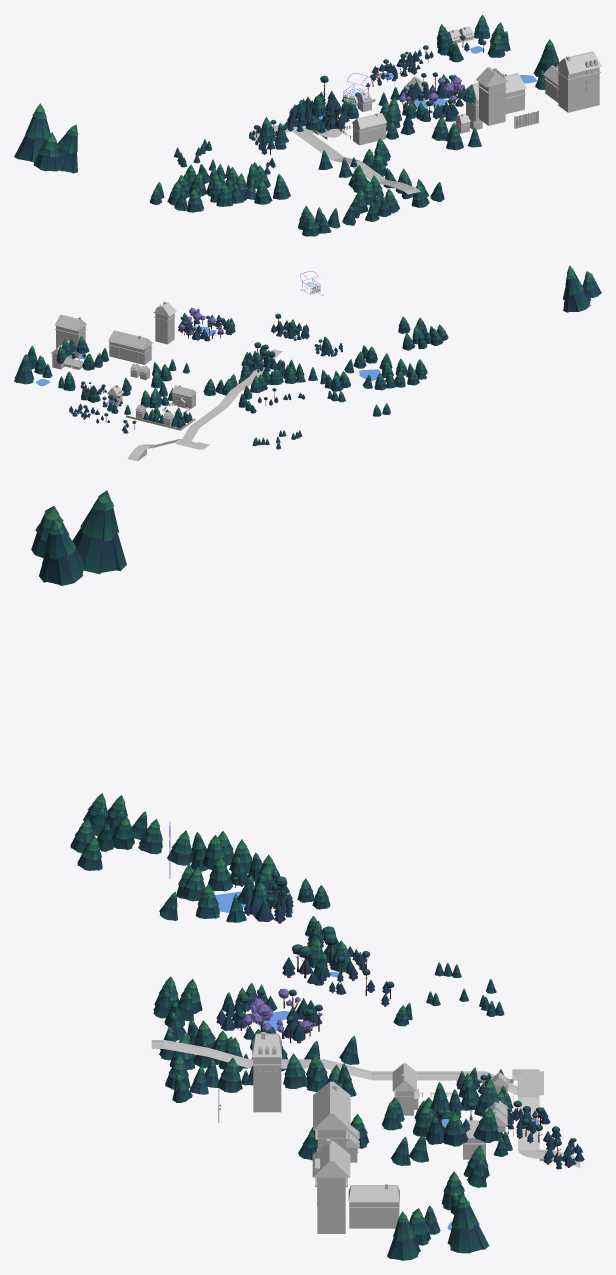
Rendered from EXT_FK_FancyTown.fbx.
3 renders of one model, top to bottom at view 1: azimuth 30°, elevation 25°; view 2: azimuth 150°, elevation 25°; view 3: azimuth 270°, elevation 25°, orthographic. The views are drawn at different scales.
Parts seen in each view (by area): view 1: Trees.059, Trees.181, Cube.355, Cube.353, Street_Middle.005, Trees.062, Cube.354, Cube.5335, Trees.060, Trees.064, Trees.166, Trees.175 (+2 smaller); view 2: Trees.059, Trees.181, Street_Middle.005, Cube.354, Cube.355, Trees.062, Cube.353, Cube.5335, Trees.175, Trees.064; view 3: Trees.059, Trees.181, Street_Middle.005, Cube.355, Trees.062, Cube.353, Cube.357, Cube.354, Trees.060, Trees.175, Cube.5335, Trees.147.
Boxes of the visible parts, x1,y1,x2,y2 form: Trees.059: (167, 162, 290, 212); Trees.181: (342, 138, 429, 225); Cube.355: (556, 51, 601, 112); Cube.353: (476, 67, 508, 125); Street_Middle.005: (249, 123, 420, 194); Trees.062: (14, 103, 50, 162); Cube.354: (465, 73, 526, 121); Cube.5335: (352, 113, 387, 145); Trees.060: (57, 124, 78, 173); Trees.064: (33, 132, 61, 171); Trees.166: (402, 85, 474, 121); Trees.175: (533, 39, 558, 76); Trees.059: (344, 316, 448, 390); Trees.181: (203, 359, 317, 395); Street_Middle.005: (127, 349, 282, 461); Cube.354: (108, 330, 152, 364); Cube.355: (54, 314, 86, 358); Trees.062: (563, 270, 591, 312); Cube.353: (153, 301, 176, 344); Cube.5335: (171, 385, 196, 408); Trees.175: (14, 354, 33, 384); Trees.064: (582, 271, 601, 297); Trees.059: (70, 793, 278, 922); Trees.181: (159, 1012, 342, 1094); Street_Middle.005: (151, 1040, 580, 1168); Cube.355: (312, 1139, 350, 1233); Trees.062: (72, 490, 126, 574); Cube.353: (252, 1032, 281, 1112); Cube.357: (348, 1184, 399, 1228); Cube.354: (313, 1081, 350, 1150); Trees.060: (39, 520, 83, 585); Trees.175: (447, 1193, 489, 1253); Cube.5335: (392, 1063, 418, 1115); Trees.147: (387, 1211, 420, 1260).
Bounding box in the file's own units: 126617 × 45009 × 61962.
